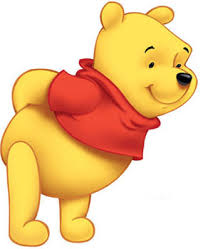Winnie: (61, 1, 203, 136)
